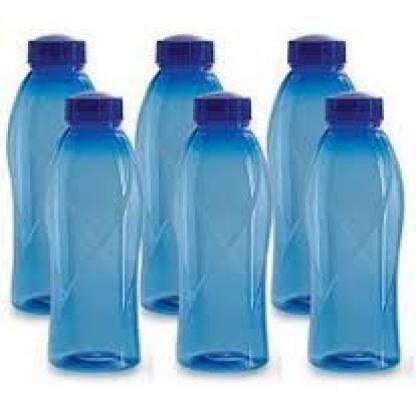trash: (310, 94, 403, 368), (178, 93, 268, 368), (49, 92, 138, 367), (267, 35, 353, 313), (7, 35, 93, 312), (136, 35, 221, 312)
